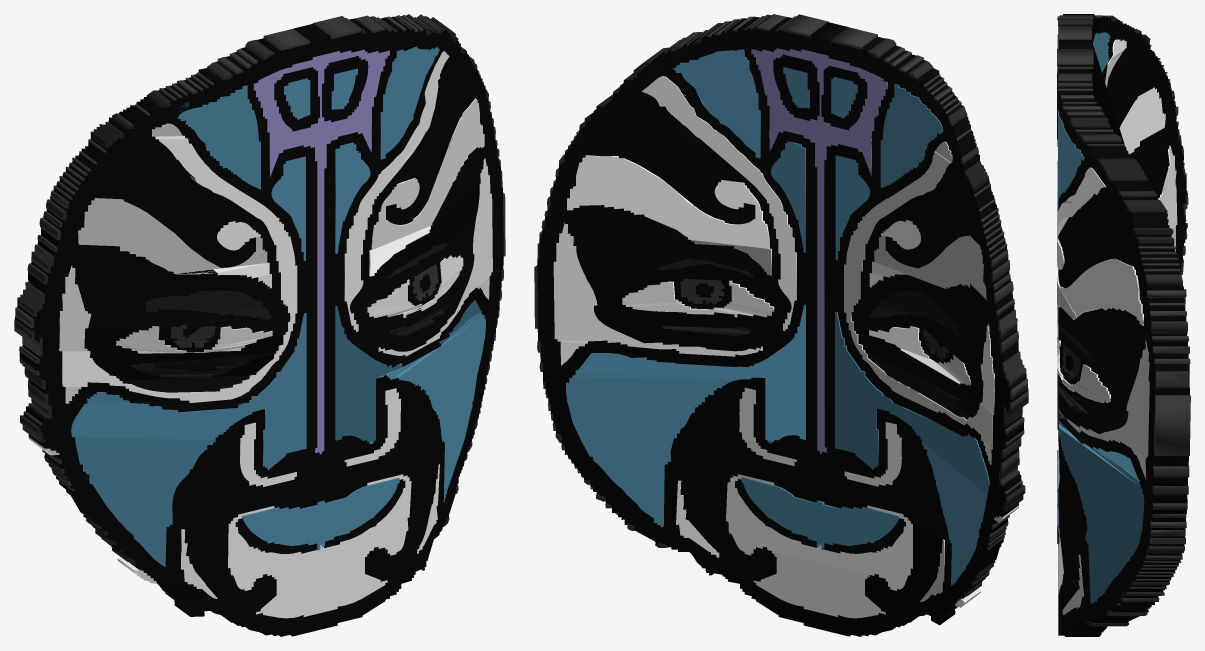
3 views of the same model, side by side, from view 1: azimuth 30°, elevation 25°; view 2: azimuth 150°, elevation 25°; view 3: azimuth 270°, elevation 25° (orthographic). The views are drawn at different scales.
Visible parts, largest first — view 1: Curve; view 2: Curve; view 3: Curve.
Part boxes in pixels (<box>): Curve: <box>14,14,505,636</box>; Curve: <box>534,14,1028,636</box>; Curve: <box>1057,14,1190,636</box>.
Bounding box in the file's own units: 0.1301 × 0.1549 × 0.0329.
